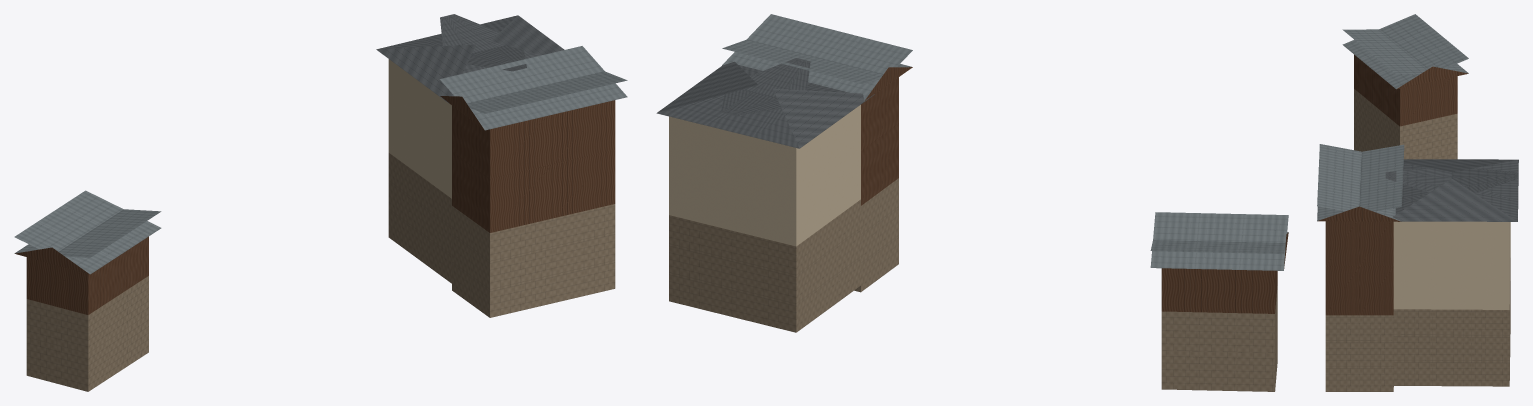
File: bld_c22_44_380.gltf
3 views of the same model, side by side, from view 1: azimuth 30°, elevation 25°; view 2: azimuth 150°, elevation 25°; view 3: azimuth 270°, elevation 25° (orthographic). The views are drawn at different scales.
Visible parts, largest first — view 1: bld_c22_44_380; view 2: bld_c22_44_380; view 3: bld_c22_44_380.
Boxes of the visible parts, x1,y1,x2,y2 form: bld_c22_44_380: (14, 14, 627, 391); bld_c22_44_380: (656, 14, 1288, 391); bld_c22_44_380: (1317, 14, 1518, 391).
Size of the model in its own units: 35.26 by 12.6 by 12.17.
6 materials, 6 textured.
